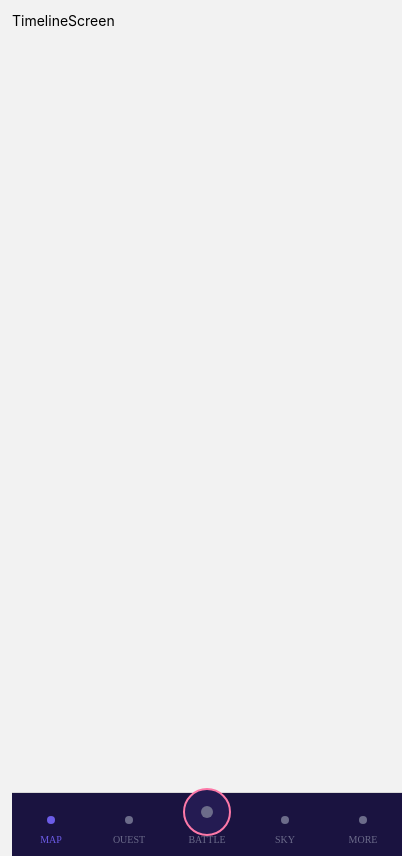
Test case: MainTab › switches to BATTLE tab and shows BattleScreen
Click the tab with aria-label "전투".
click(207, 816)  # box [183,788,231,845]
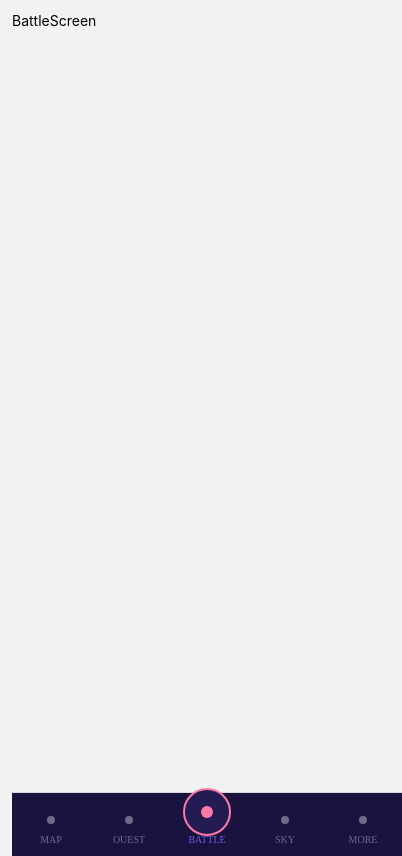
expect the text "BattleScreen" is shown: met, box [12,12,96,29]
